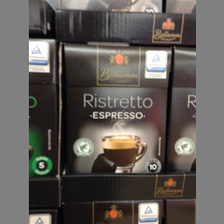coffee: (63, 43, 171, 174)
